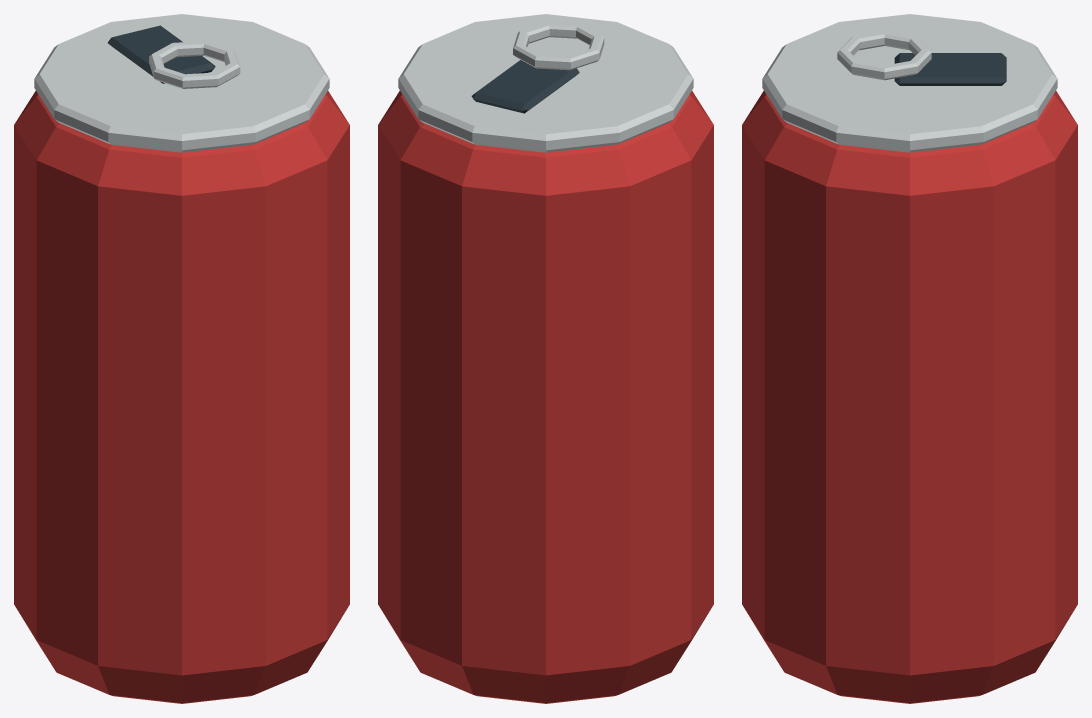
Rendered from b16_aluminum_soda_can.glb.
The picture shows the model from 3 angles, left to right: view 1: azimuth 30°, elevation 25°; view 2: azimuth 150°, elevation 25°; view 3: azimuth 270°, elevation 25°; orthographic projection.
Parts seen in each view (by area): view 1: b16_aluminum_soda_can; view 2: b16_aluminum_soda_can; view 3: b16_aluminum_soda_can.
Part boxes in pixels (<box>): b16_aluminum_soda_can: <box>14,14,349,703</box>; b16_aluminum_soda_can: <box>378,14,713,703</box>; b16_aluminum_soda_can: <box>742,14,1077,703</box>.
Size of the model in its own units: 0.066 by 0.1293 by 0.066.
